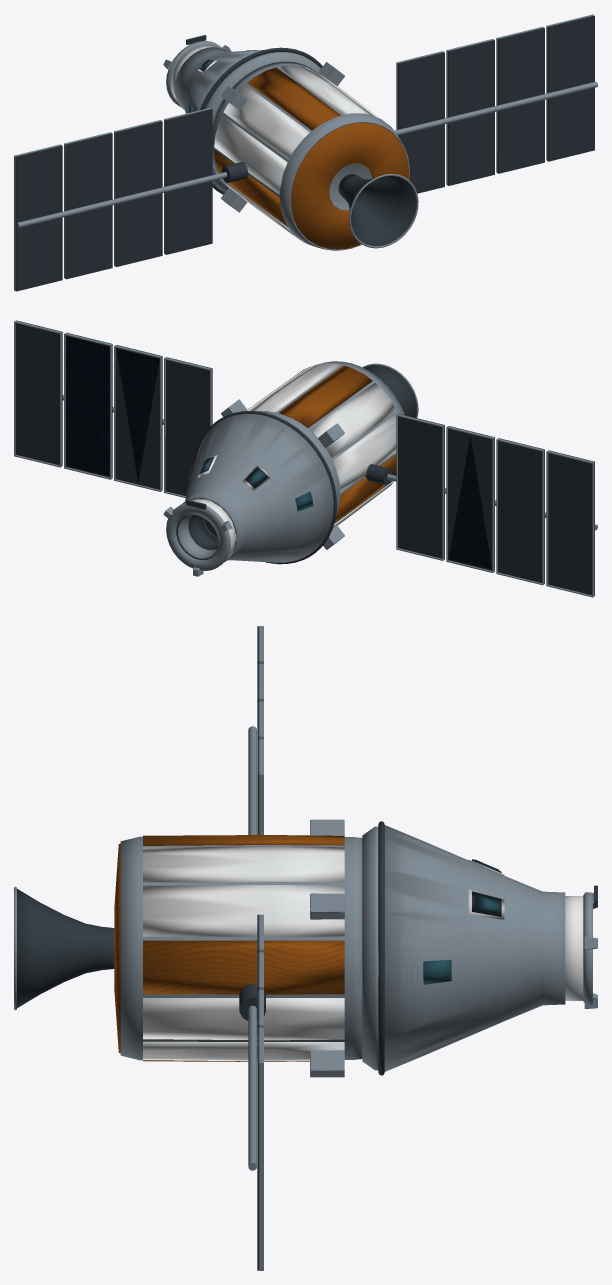
The model's file is OrbiterLOD2.fbx.
3 renders of one model, top to bottom at view 1: azimuth 30°, elevation 25°; view 2: azimuth 150°, elevation 25°; view 3: azimuth 270°, elevation 25°, orthographic. The views are drawn at different scales.
Visible parts, largest first — view 1: LOD2__Orb_Graphite, LOD2__Orb_Silver, LOD2__Orb_GoldMLI, LOD2__Orb_White; view 2: LOD2__Orb_Graphite, LOD2__Orb_Silver, LOD2__Orb_Solar, LOD2__Orb_White, LOD2__Orb_GoldMLI, LOD2__Orb_Glass; view 3: LOD2__Orb_Silver, LOD2__Orb_White, LOD2__Orb_GoldMLI, LOD2__Orb_Graphite, LOD2__Orb_Glass.
Boxes of the visible parts, x1,y1,x2,y2 form: LOD2__Orb_Graphite: (15,15,594,291); LOD2__Orb_Silver: (14,14,597,290); LOD2__Orb_GoldMLI: (214,67,408,249); LOD2__Orb_White: (171,45,396,244); LOD2__Orb_Graphite: (15,320,594,595); LOD2__Orb_Silver: (14,321,597,597); LOD2__Orb_Solar: (66,336,491,569); LOD2__Orb_White: (192,363,397,556); LOD2__Orb_GoldMLI: (279,365,396,522); LOD2__Orb_Glass: (188,457,313,511); LOD2__Orb_Silver: (14,626,597,1270); LOD2__Orb_White: (143,846,583,1061); LOD2__Orb_GoldMLI: (114,835,344,1061); LOD2__Orb_Graphite: (17,626,597,1270); LOD2__Orb_Glass: (423,859,499,984).
Size of the model in its own units: 1621 by 399 by 916.
